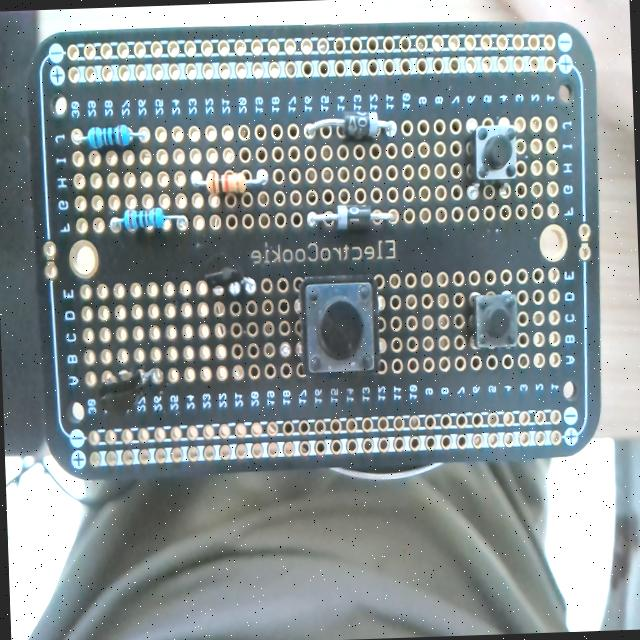diode: (300, 110, 398, 140), (307, 202, 398, 232)
resistor: (111, 205, 186, 233), (195, 168, 268, 196), (74, 121, 145, 149)
switch: (298, 276, 379, 374), (470, 290, 520, 350), (471, 124, 519, 182)
transistor: (83, 355, 165, 421), (192, 252, 260, 306)
